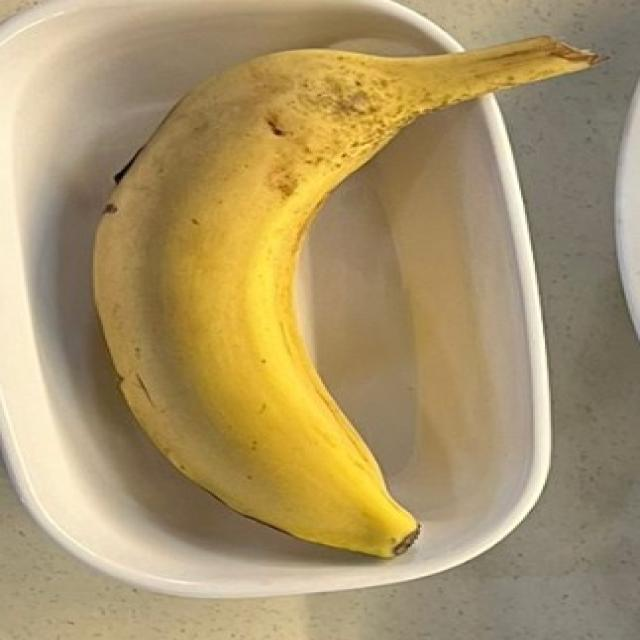yan_yemek: (90, 35, 611, 605)
